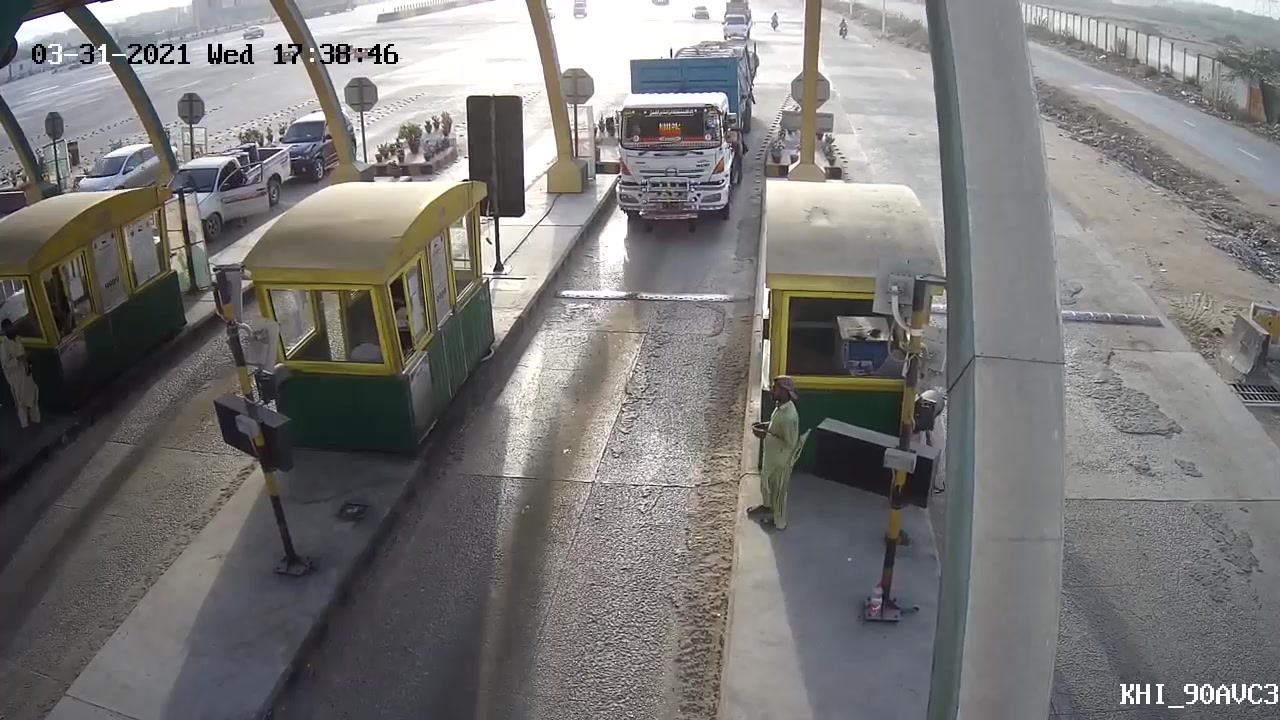F6: (607, 28, 768, 227)
